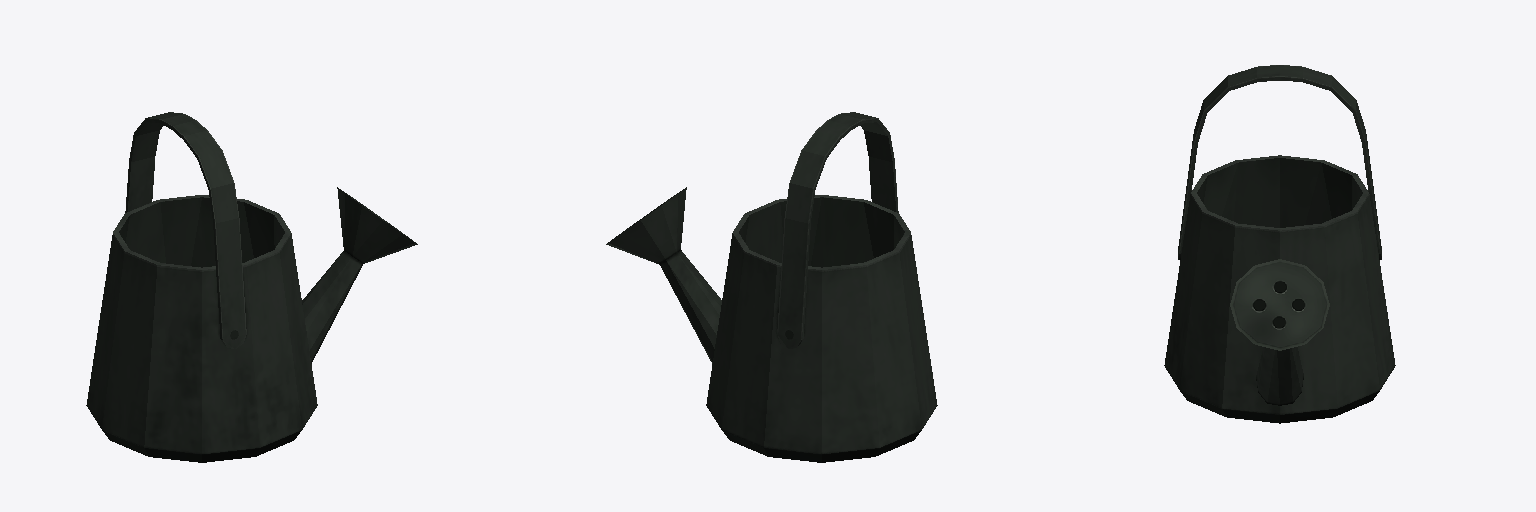
3 views of the same model, side by side, from view 1: azimuth 30°, elevation 25°; view 2: azimuth 150°, elevation 25°; view 3: azimuth 270°, elevation 25° (orthographic).
Parts seen in each view (by area): view 1: WateringCan_mesh; view 2: WateringCan_mesh; view 3: WateringCan_mesh.
Part boxes in pixels (left/top/right/bottom): WateringCan_mesh: left=86, top=112, right=417, bottom=462; WateringCan_mesh: left=606, top=112, right=937, bottom=462; WateringCan_mesh: left=1164, top=65, right=1395, bottom=423.
Size of the model in its own units: 19.77 by 18.43 by 12.85.
Materials: 1 (1 with a texture image).